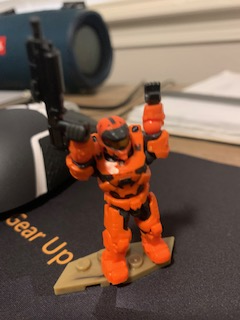rifle: (21, 16, 89, 152)
spartan: (58, 79, 174, 284)
up: (61, 81, 170, 194)
